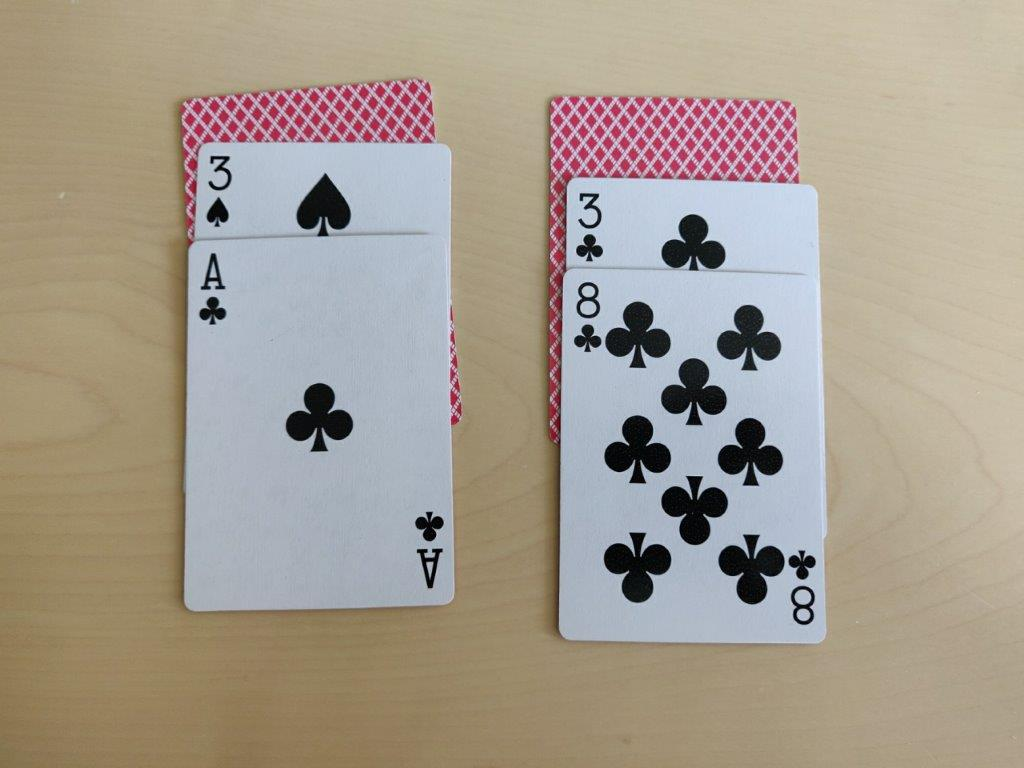3C: (569, 183, 611, 264)
3S: (198, 152, 237, 230)
8C: (570, 274, 606, 357)
AC: (191, 249, 235, 332)
BACK: (546, 90, 810, 182), (176, 76, 436, 141)
